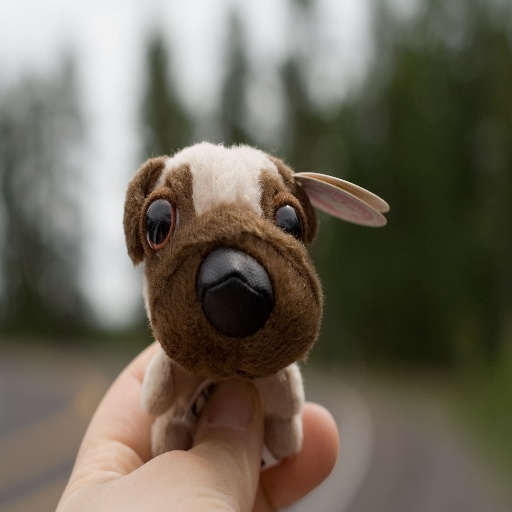hand: (24, 373, 332, 505)
